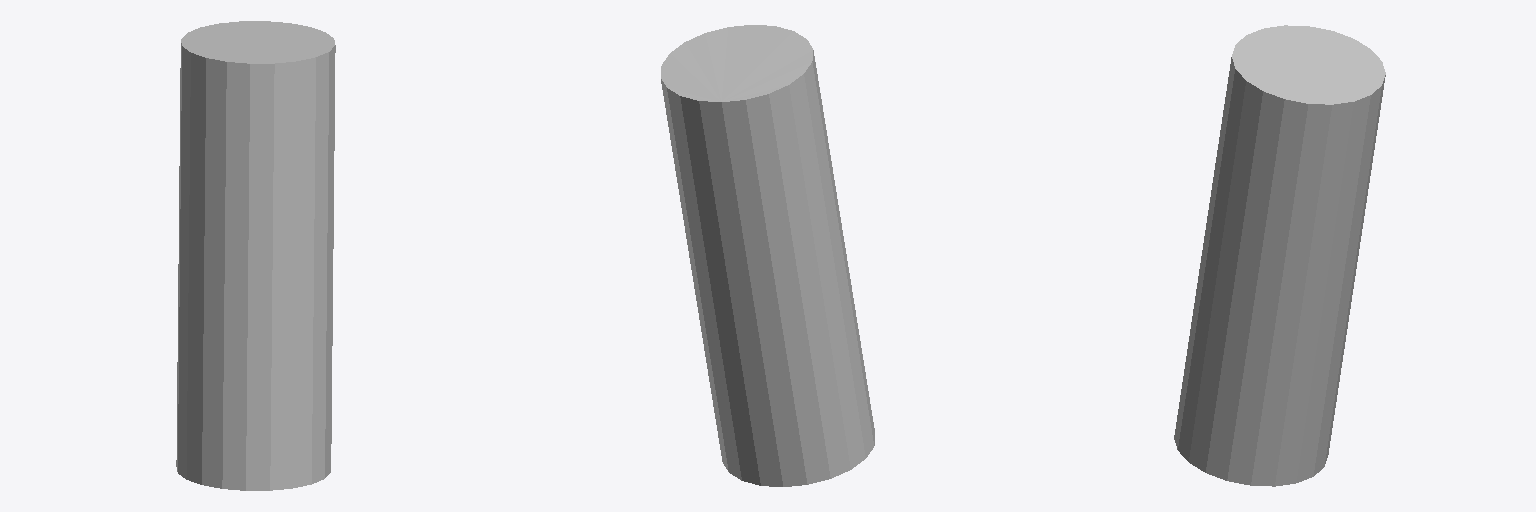
Rendered from 4proxph_skin.obj.
The picture shows the model from 3 angles: view 1: azimuth 30°, elevation 25°; view 2: azimuth 150°, elevation 25°; view 3: azimuth 270°, elevation 25°; orthographic projection.
Bounding box in the file's own units: 0.0157 × 0.0376 × 0.0172.